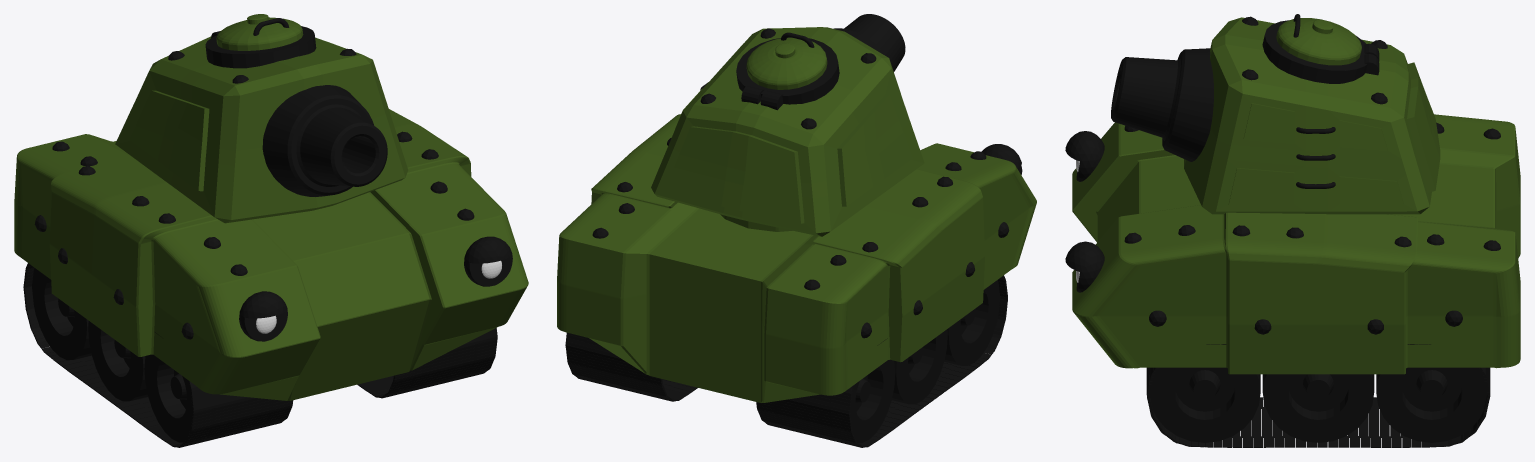
Rendered from tank_1_green.fbx.
3 renders of one model, left to right at view 1: azimuth 30°, elevation 25°; view 2: azimuth 150°, elevation 25°; view 3: azimuth 270°, elevation 25°, orthographic. The views are drawn at different scales.
Visible parts, largest first — view 1: Base.003, Turret.003, Canon.003, Tracks.005, Wheels.003, Entrance.003, Lights.003, Bolts.004; view 2: Base.003, Turret.003, Tracks.005, Wheels.003, Entrance.003, Bolts.004, Canon.003, Bolts.003, Lights.003; view 3: Base.003, Turret.003, Wheels.003, Canon.003, Entrance.003, Tracks.005, Lights.003, Bolts.004, Ladder.003, Bolts.003.
Boxes of the visible parts, x1,y1,x2,y2 form: Base.003: (14,109,528,400); Turret.003: (115,36,408,223); Canon.003: (262,85,387,196); Tracks.005: (23,263,497,447); Wheels.003: (32,268,192,442); Entrance.003: (205,14,316,68); Lights.003: (239,236,512,341); Bolts.004: (34,131,474,339); Base.003: (557,114,1036,402); Turret.003: (651,27,924,236); Tracks.005: (565,275,1007,447); Wheels.003: (850,280,1000,442); Entrance.003: (736,32,839,110); Bolts.004: (592,138,1009,338); Canon.003: (833,14,905,71); Bolts.003: (700,28,876,129); Lights.003: (981,144,1022,174); Base.003: (1072,114,1520,374); Turret.003: (1184,17,1440,214); Wheels.003: (1149,367,1487,442); Canon.003: (1111,48,1213,161); Entrance.003: (1262,14,1379,83); Tracks.005: (1146,344,1490,447); Lights.003: (1065,131,1104,292); Bolts.004: (1124,122,1500,334); Ladder.003: (1296,127,1335,188); Bolts.003: (1242,16,1387,104).
Bounding box in the file's own units: 155 × 150 × 175.
